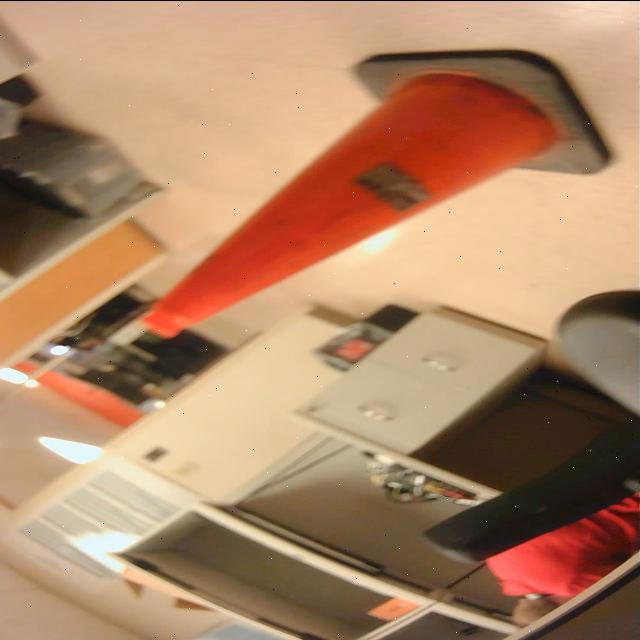traffic cone: (128, 40, 615, 343)
